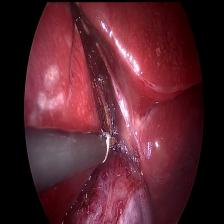Hook: (93, 127, 124, 166)
